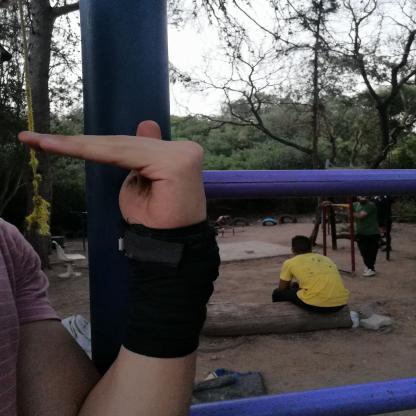KHAA: (5, 106, 227, 254)
